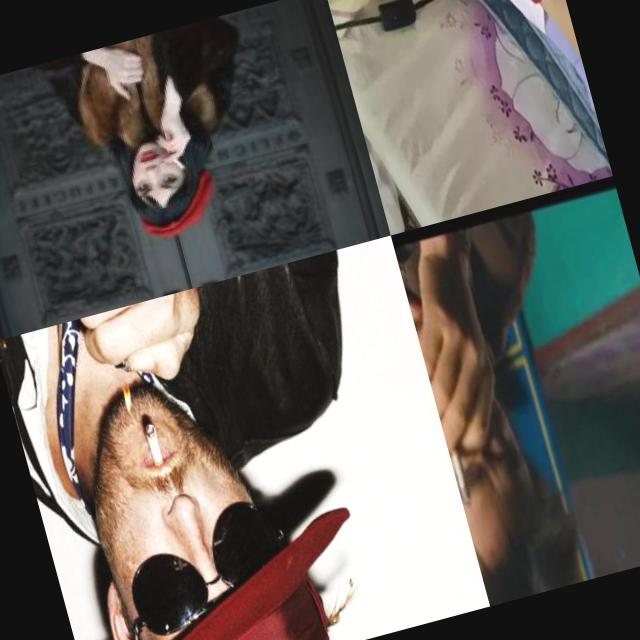smoke: (448, 443, 475, 510), (140, 418, 168, 471), (170, 154, 187, 171)
